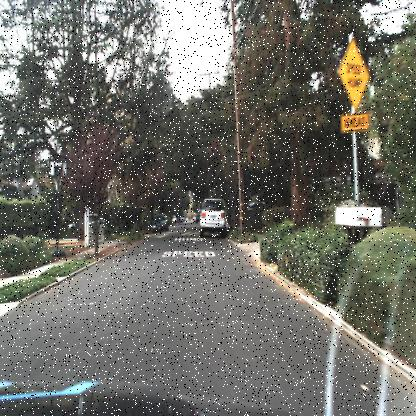car: (198, 196, 227, 238), (241, 198, 270, 218), (152, 213, 168, 235)
